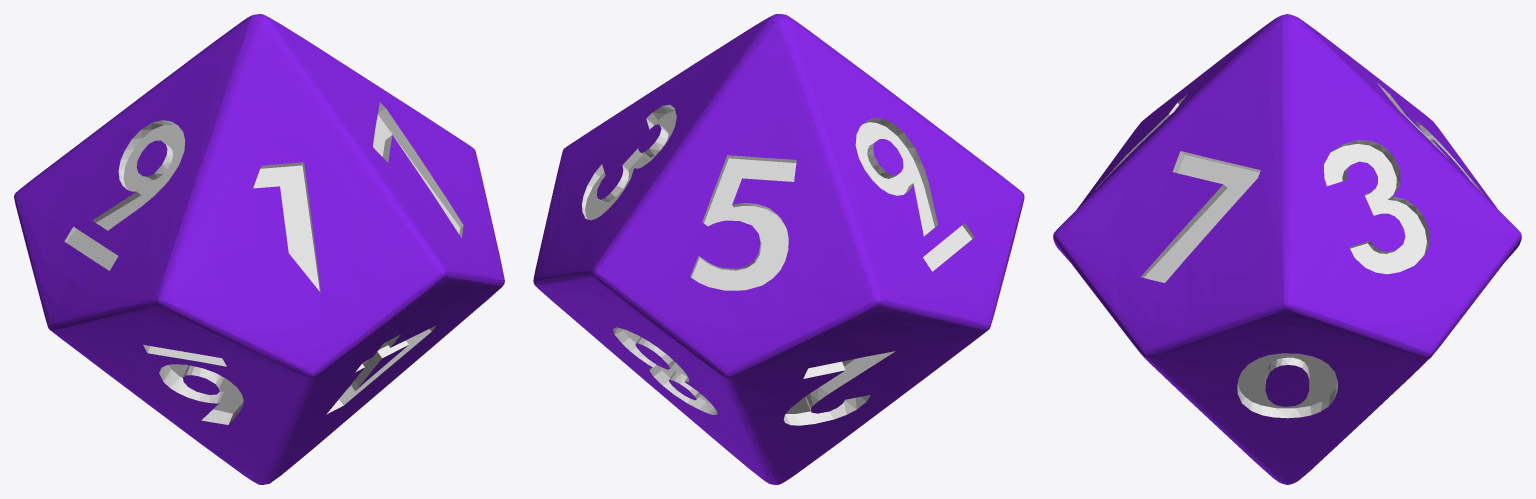
3 renders of one model, left to right at view 1: azimuth 30°, elevation 25°; view 2: azimuth 150°, elevation 25°; view 3: azimuth 270°, elevation 25°, orthographic.
Parts seen in each view (by area): view 1: D10 Base; view 2: D10 Base; view 3: D10 Base.
Boxes of the visible parts, <box> form: D10 Base: <box>14,14,504,484</box>; D10 Base: <box>533,14,1024,484</box>; D10 Base: <box>1053,14,1521,484</box>.
Bounding box in the file's own units: 33.48 × 35.1 × 32.11.
